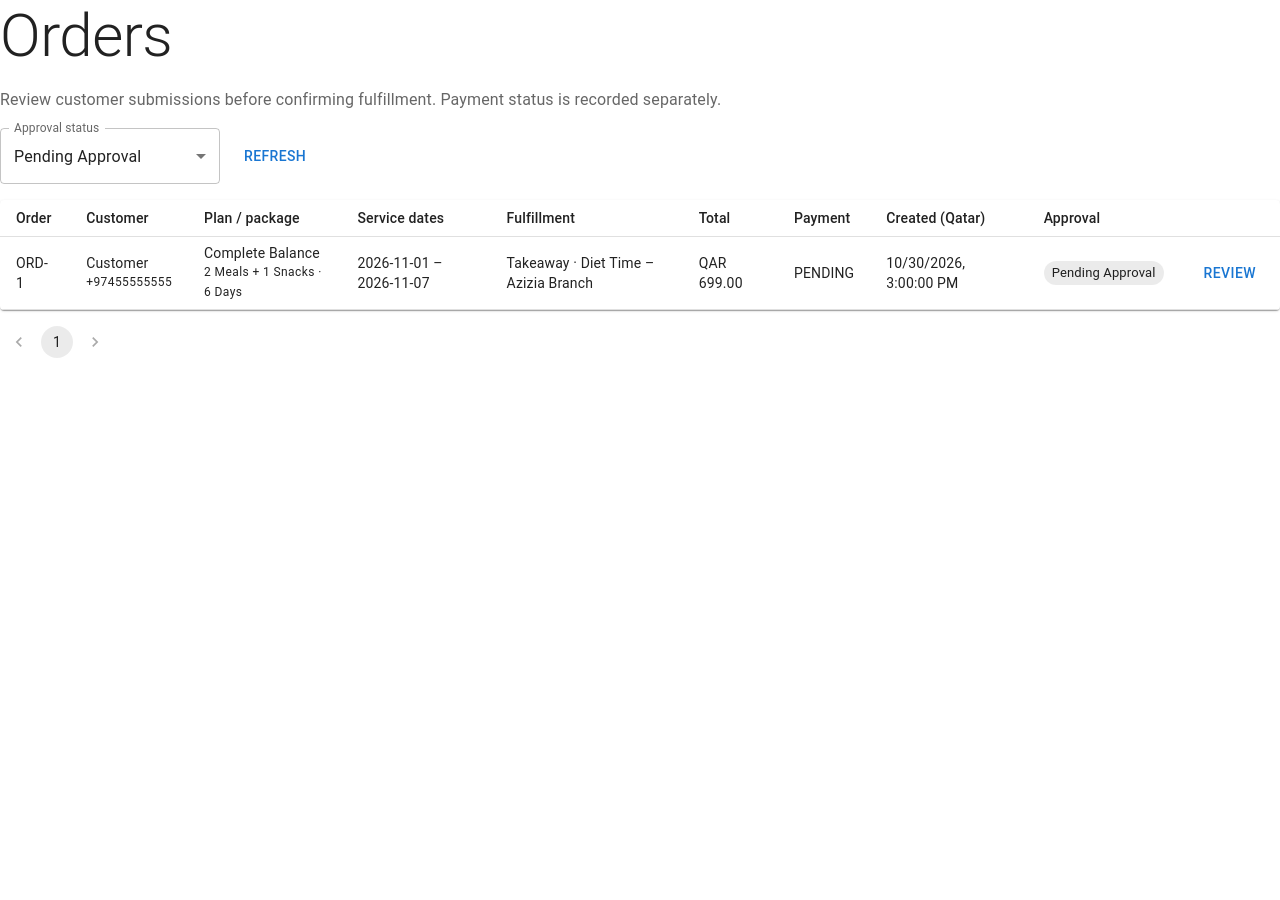
it: Staff order review › requires an explicit approval confirmation and sends the current version
Click the button "Review" at (1230, 273), box [1196,255,1264,291]
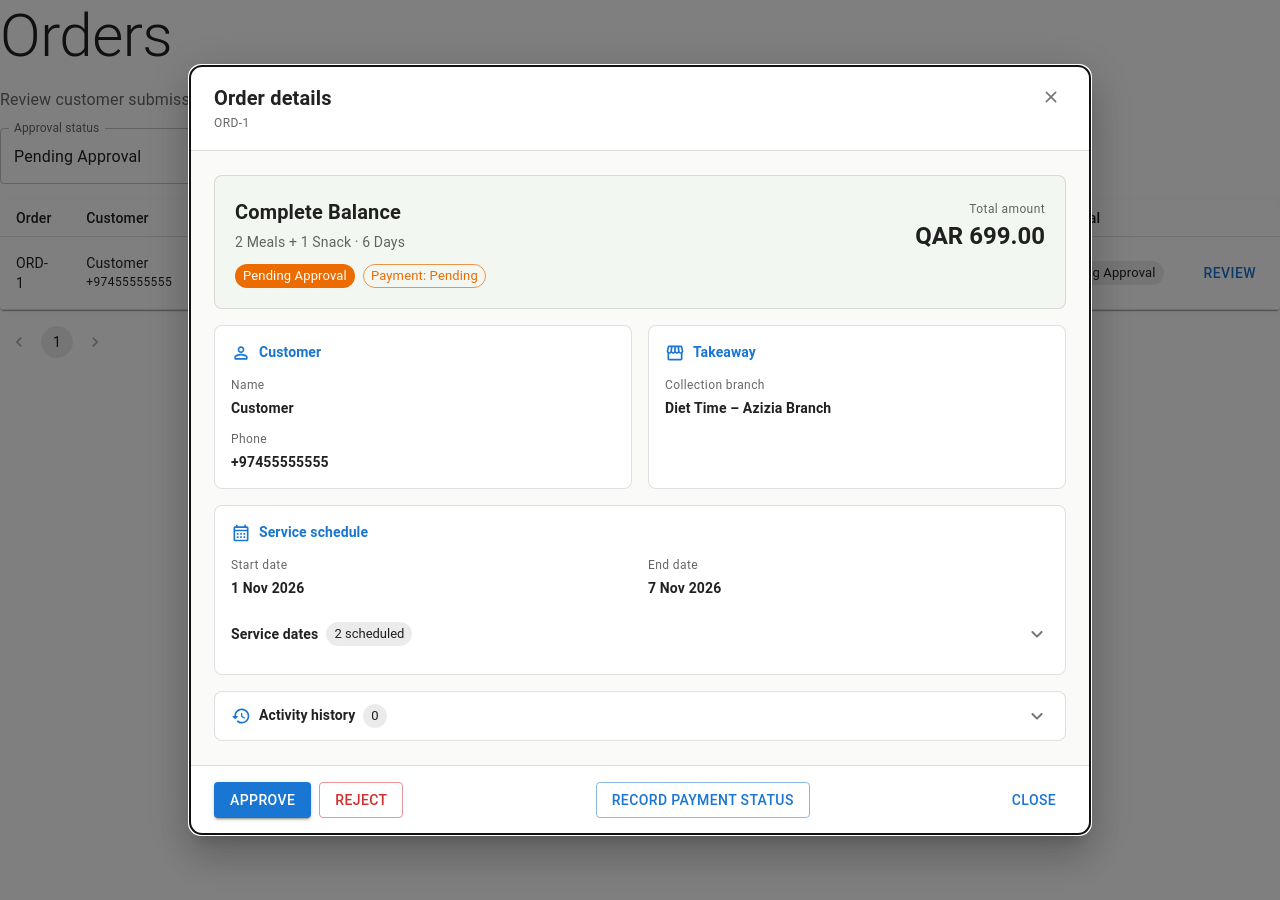
Click the button "Approve" at (263, 800), box [214,782,311,818]
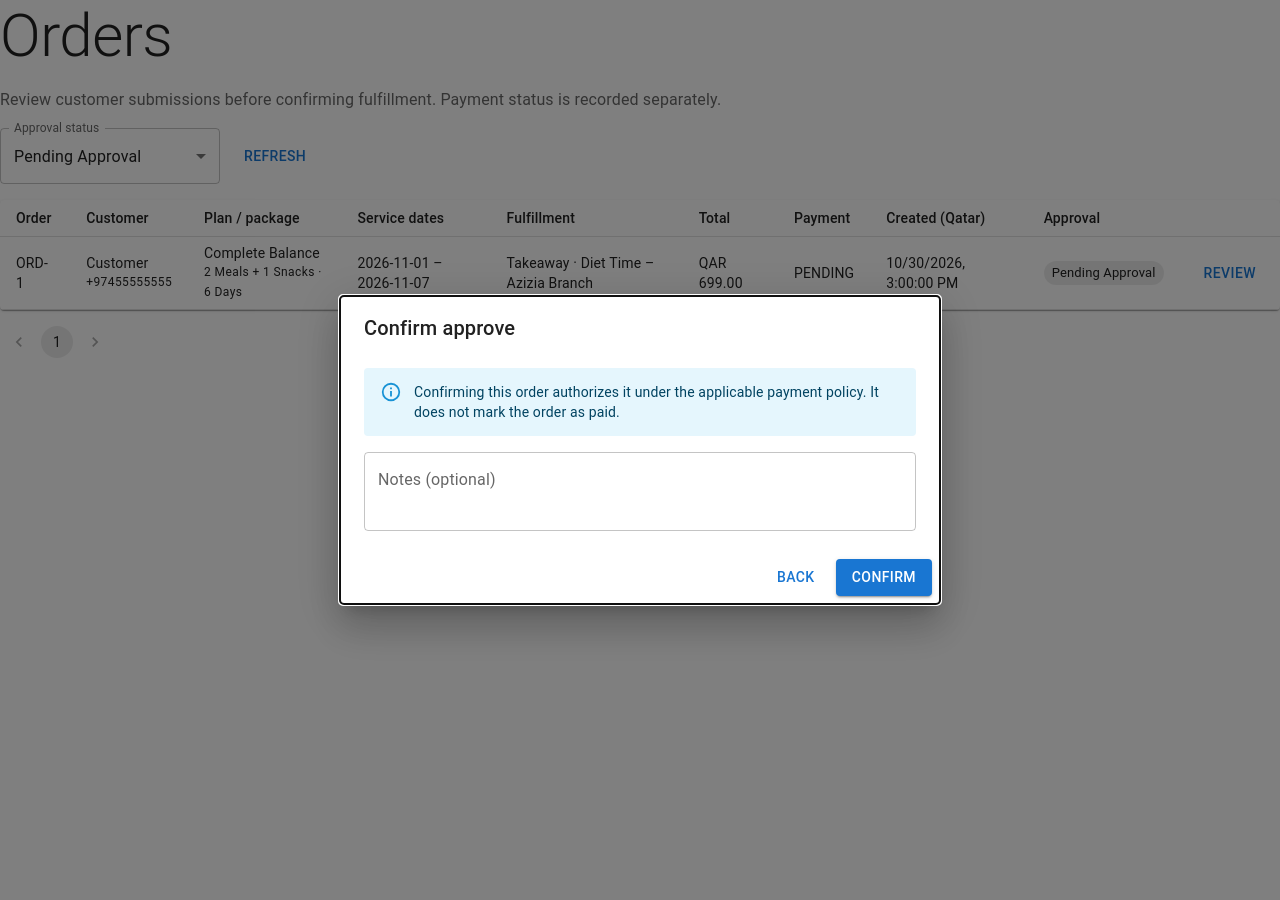
Click the button "Confirm" at (884, 578), box [836,559,932,596]
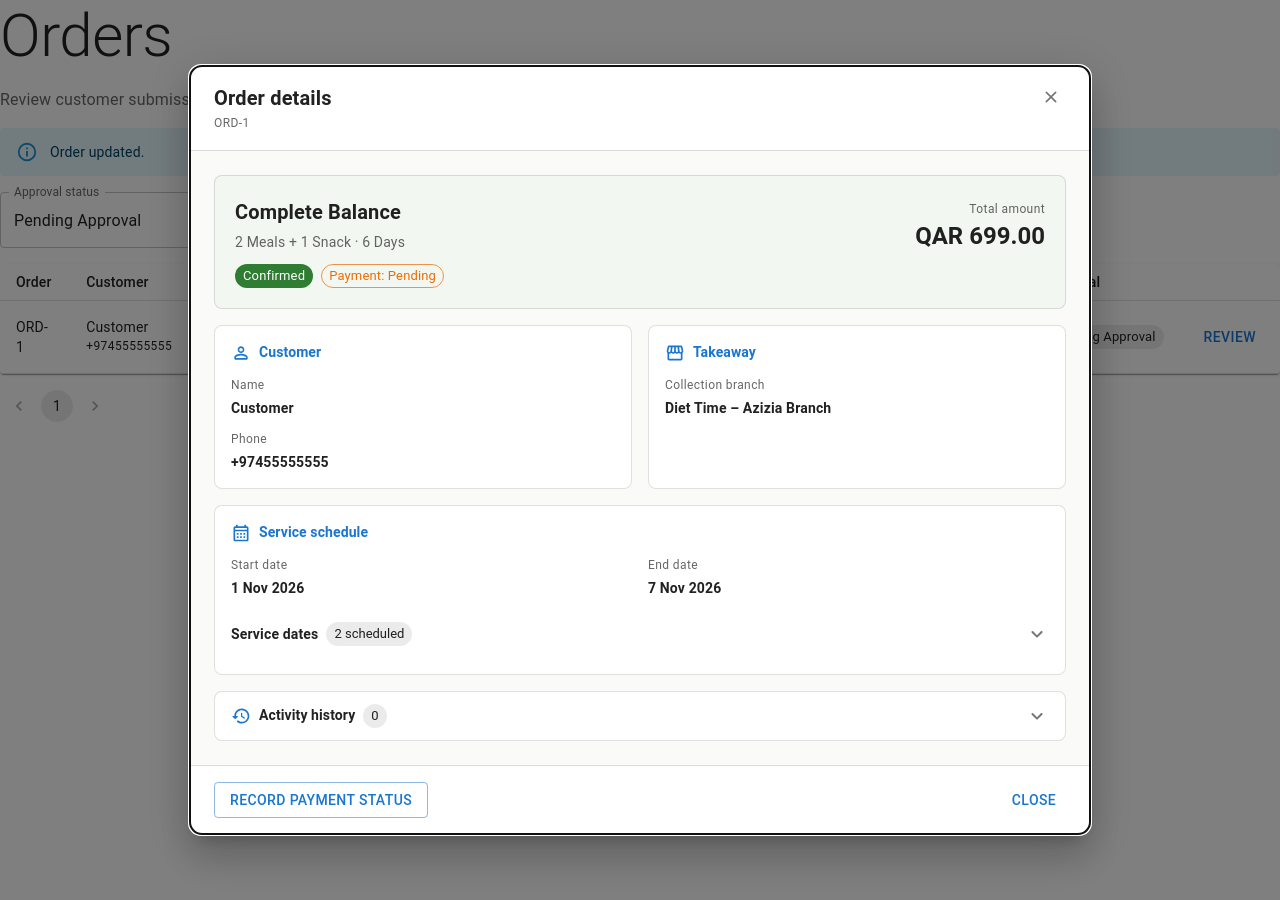
Now the text "Order updated." is shown, box [50,144,145,160]
Now the text "Payment: Pending" is shown, box [322,266,443,286]
Now the text "Confirmed" is shown, box [243,268,305,283]
